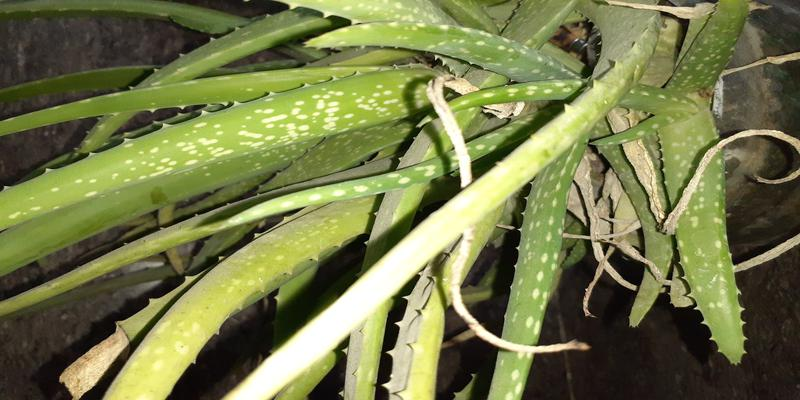Aloevera: (146, 6, 754, 378)
